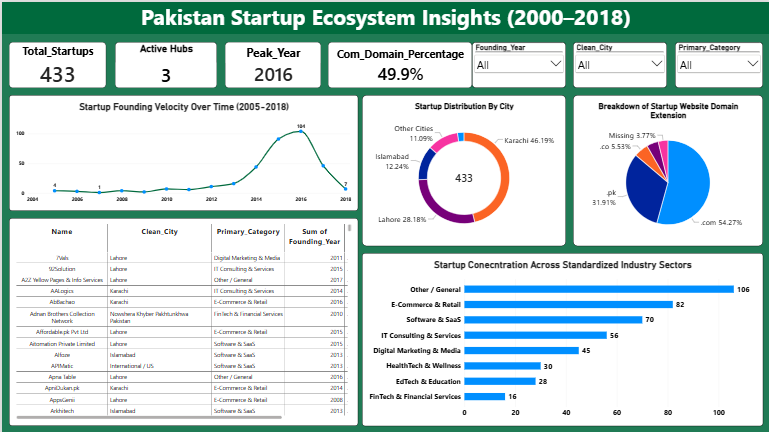

What the dashboard file says about the page in this screenshot:
{"tool":"powerbi","page":{"name":"Page 1","canvas":[1920,1080],"ordinal":0},"visuals":[{"type":"textbox","box":[0,0,1920.2,79.9],"z":0},{"type":"cardVisual","fields":{"Data":["Measures (2).Total_Startups"]},"box":[17.5,100,242.5,115],"z":1},{"type":"cardVisual","title":"Active Hubs","fields":{"Data":["Count(pakistan_startup_census_featured.Clean_City)"]},"box":[282.5,100,255,115],"z":2},{"type":"cardVisual","fields":{"Data":["Measures (2).Com_Domain_Percentage"]},"box":[815,100,360,115],"z":3},{"type":"cardVisual","fields":{"Data":["Measures (2).Peak_Year"]},"box":[557.5,100,240,115],"z":4},{"type":"donutChart","title":"Startup Distribution By City ","fields":{"Category":["pakistan_startup_census_featured.Donut_City_Group"],"Y":["CountNonNull(pakistan_startup_census_featured.Name)"]},"box":[900,232.5,510,377.5],"z":5},{"type":"lineChart","title":"Startup Founding Velocity Over Time (2005-2018)","fields":{"Category":["pakistan_startup_census_featured.Founding_Year"],"Y":["Count(pakistan_startup_census_featured.Name)"]},"box":[17.5,232.5,872.5,290],"z":6},{"type":"clusteredBarChart","title":"Startup Conecntration Across Standardized Industry Sectors","fields":{"Y":["CountNonNull(pakistan_startup_census_featured.Name)"],"Category":["pakistan_startup_census_featured.Primary_Category"]},"box":[900,627.5,1002.5,432.5],"z":7},{"type":"tableEx","fields":{"Values":["pakistan_startup_census_featured.Name","pakistan_startup_census_featured.Clean_City","pakistan_startup_census_featured.Primary_Category","Sum(pakistan_startup_census_featured.Founding_Year)","pakistan_startup_census_featured.Domain_Extension","pakistan_startup_census_featured.Has_Website"]},"box":[17.5,540,872.5,520],"z":8},{"type":"pieChart","title":"Breakdown of Startup Website Domain Extension","fields":{"Y":["CountNonNull(pakistan_startup_census_featured.Has_Website)"],"Category":["pakistan_startup_census_featured.Domain_Extension"]},"box":[1427.5,232.5,475,377.5],"z":9},{"type":"slicer","fields":{"Values":["pakistan_startup_census_featured.Founding_Year"]},"box":[1175,100,235,115],"z":10},{"type":"slicer","fields":{"Values":["pakistan_startup_census_featured.Clean_City"]},"box":[1427.5,100,235,115],"z":11},{"type":"slicer","fields":{"Values":["pakistan_startup_census_featured.Primary_Category"]},"box":[1682.5,100,220,115],"z":12}]}

Visuals, with their boxes in screenshot pixels (x1, y1, x2, y2), scaled from the page's 1920x1080 canvas onto the 769x432 screenshot:
textbox: x1=0 y1=0 x2=768 y2=32
cardVisual - Measures (2).Total_Startups: x1=7 y1=40 x2=104 y2=86
"Active Hubs" cardVisual: x1=113 y1=40 x2=215 y2=86
cardVisual - Measures (2).Com_Domain_Percentage: x1=326 y1=40 x2=471 y2=86
cardVisual - Measures (2).Peak_Year: x1=223 y1=40 x2=319 y2=86
"Startup Distribution By City " donutChart: x1=360 y1=93 x2=565 y2=244
"Startup Founding Velocity Over Time (2005-2018)" lineChart: x1=7 y1=93 x2=356 y2=209
"Startup Conecntration Across Standardized Industry Sectors" clusteredBarChart: x1=360 y1=251 x2=762 y2=424
tableEx - pakistan_startup_census_featured.Name x pakistan_startup_census_featured.Clean_City: x1=7 y1=216 x2=356 y2=424
"Breakdown of Startup Website Domain Extension" pieChart: x1=572 y1=93 x2=762 y2=244
slicer - pakistan_startup_census_featured.Founding_Year: x1=471 y1=40 x2=565 y2=86
slicer - pakistan_startup_census_featured.Clean_City: x1=572 y1=40 x2=666 y2=86
slicer - pakistan_startup_census_featured.Primary_Category: x1=674 y1=40 x2=762 y2=86
